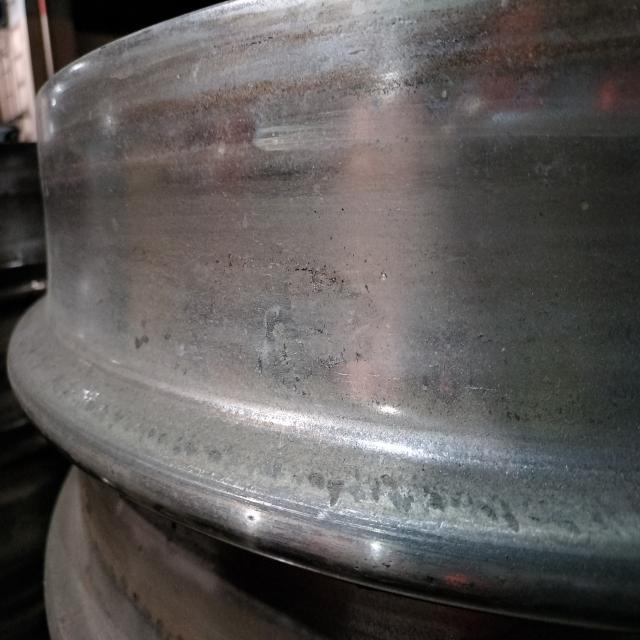Rollerpile: (257, 261, 368, 391)
